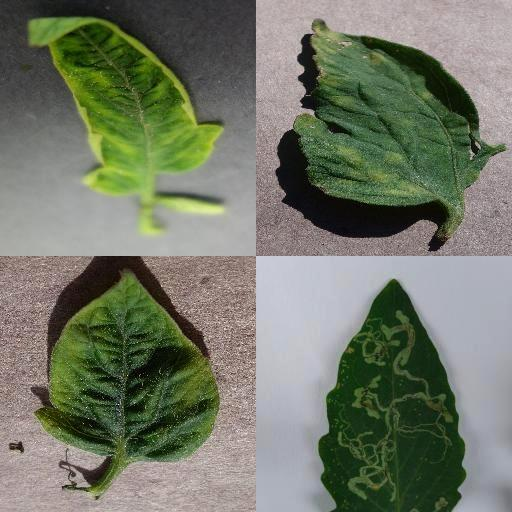Leaf Miner: (316, 278, 468, 510)
Leaf Mold: (292, 18, 506, 206)
Yellow Leaf Curl Virus: (36, 266, 220, 462), (27, 17, 223, 197)
